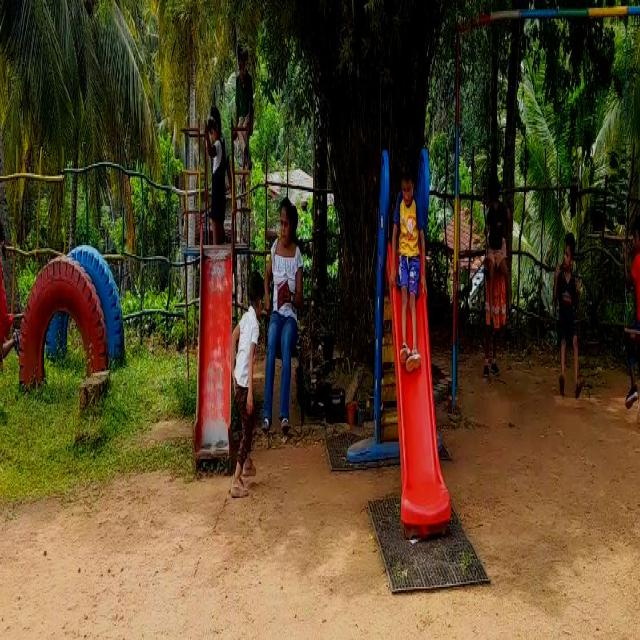adult: (267, 190, 298, 454)
child: (231, 265, 262, 503), (393, 142, 422, 368), (478, 143, 510, 321), (553, 224, 585, 400), (618, 192, 640, 398), (208, 103, 229, 245), (0, 210, 16, 374)
